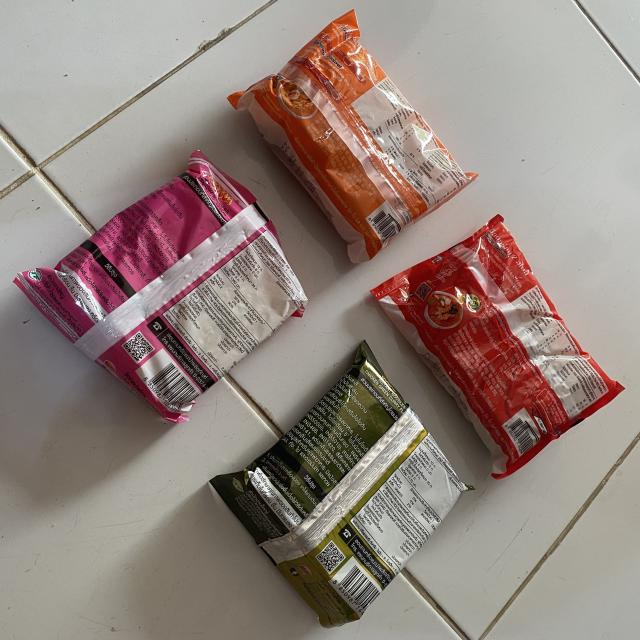plastik: (15, 151, 308, 422), (210, 341, 469, 628), (371, 215, 624, 479), (229, 10, 476, 262)
